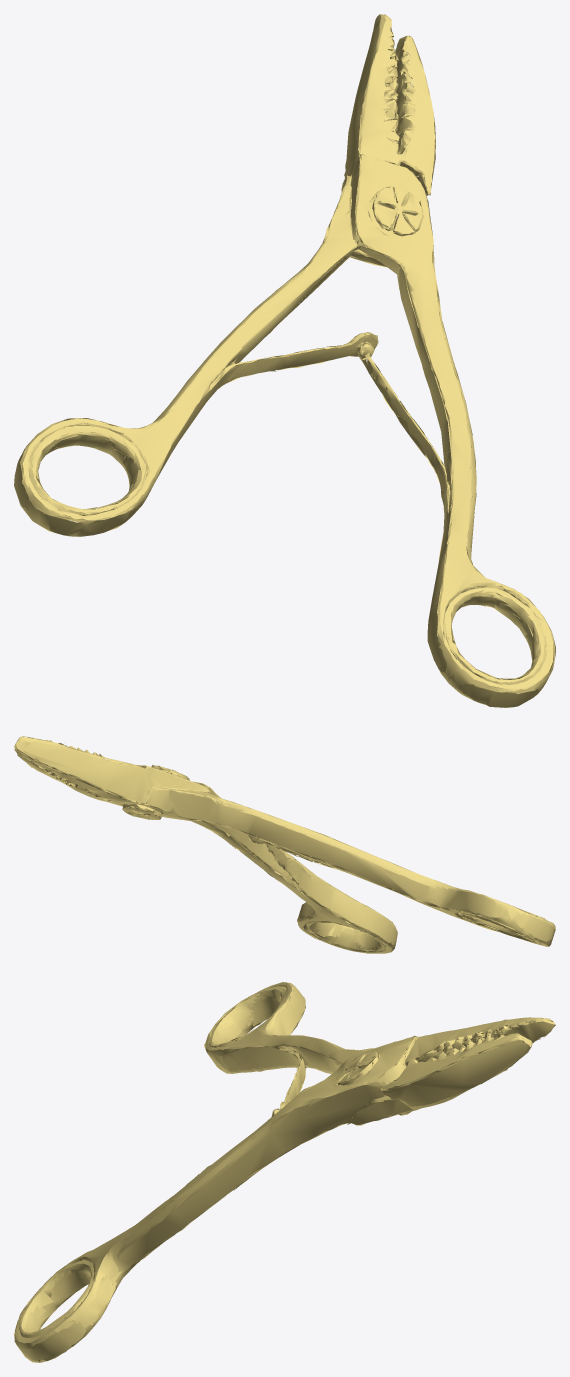
Rendered from equip_ent_walsham_forceps.glb.
3 views of the same model, one above another, from view 1: azimuth 30°, elevation 25°; view 2: azimuth 150°, elevation 25°; view 3: azimuth 270°, elevation 25° (orthographic). The views are drawn at different scales.
Visible parts, largest first — view 1: world; view 2: world; view 3: world.
Part boxes in pixels (left/top/right/bottom): world: left=14, top=14, right=555, bottom=707; world: left=14, top=736, right=555, bottom=953; world: left=14, top=982, right=555, bottom=1362.
Bounding box in the file's own units: 0.1801 × 0.1433 × 0.1736.
